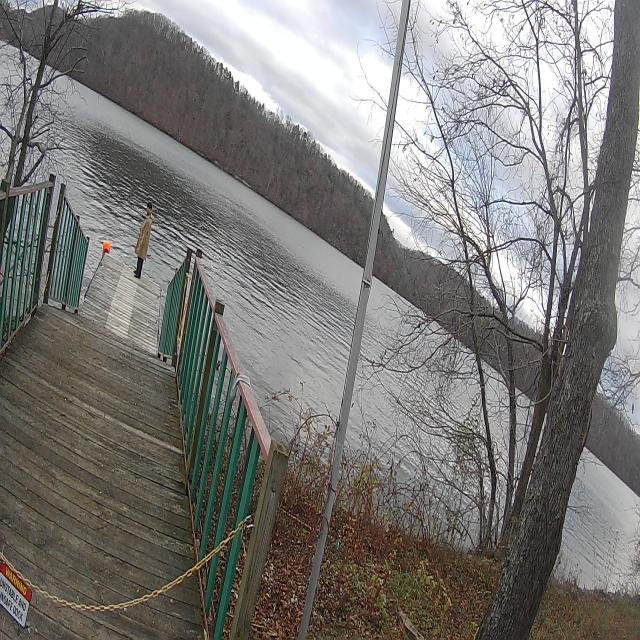Buoy: (100, 238, 114, 256)
